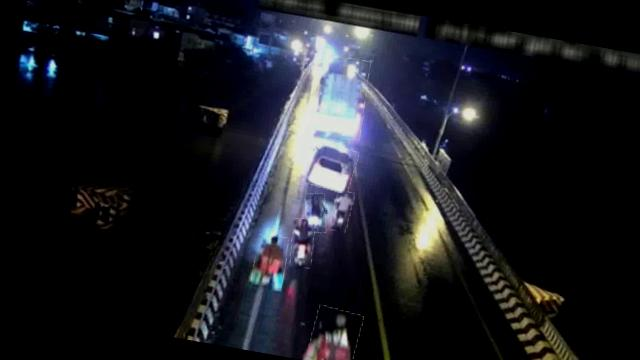Bike: (306, 305, 363, 360), (248, 232, 290, 291), (288, 217, 318, 269), (300, 191, 330, 234), (328, 188, 354, 232)
Car: (306, 140, 360, 194)
Truck: (311, 54, 372, 141)
